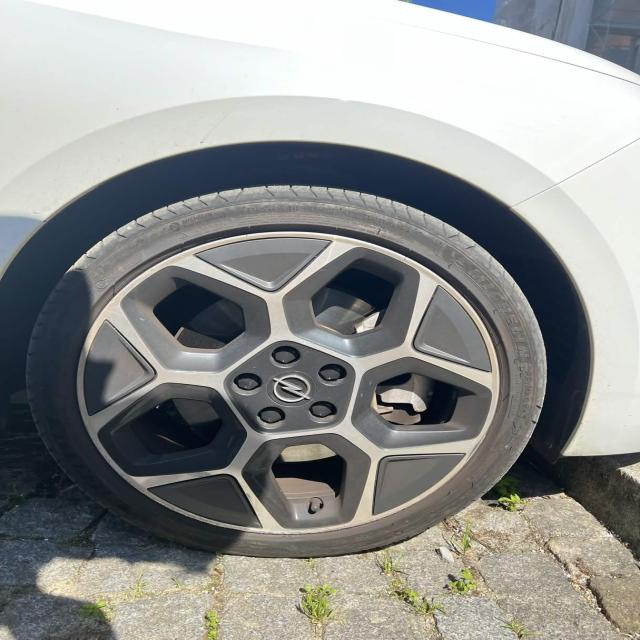jante: (75, 228, 504, 535)
parafuso: (263, 344, 304, 369), (313, 359, 349, 386), (254, 407, 288, 430), (231, 373, 265, 395), (311, 400, 340, 423)
roda: (24, 182, 552, 559)
